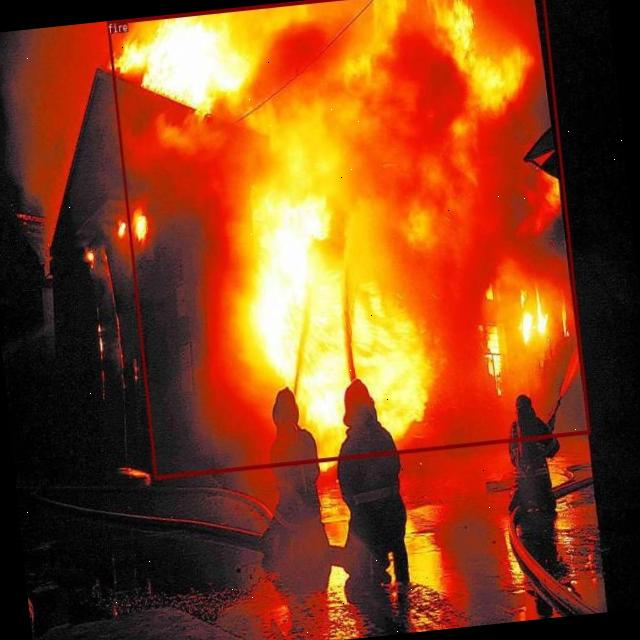fire: (106, 0, 590, 479)
